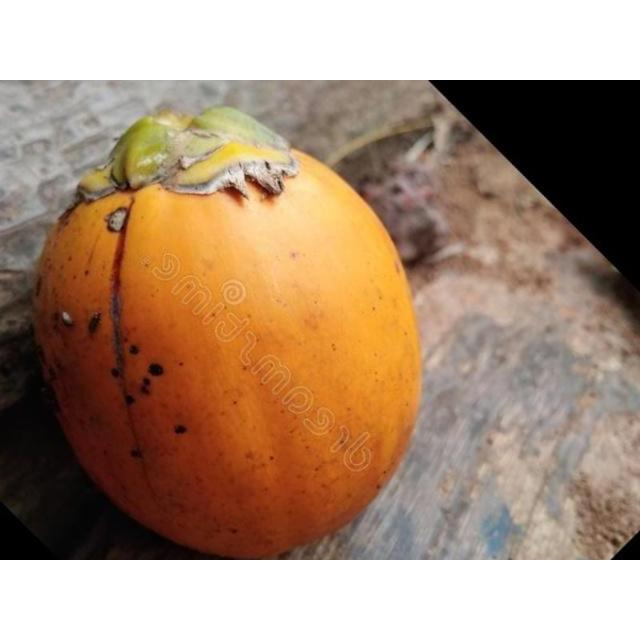good: (30, 107, 422, 559)
